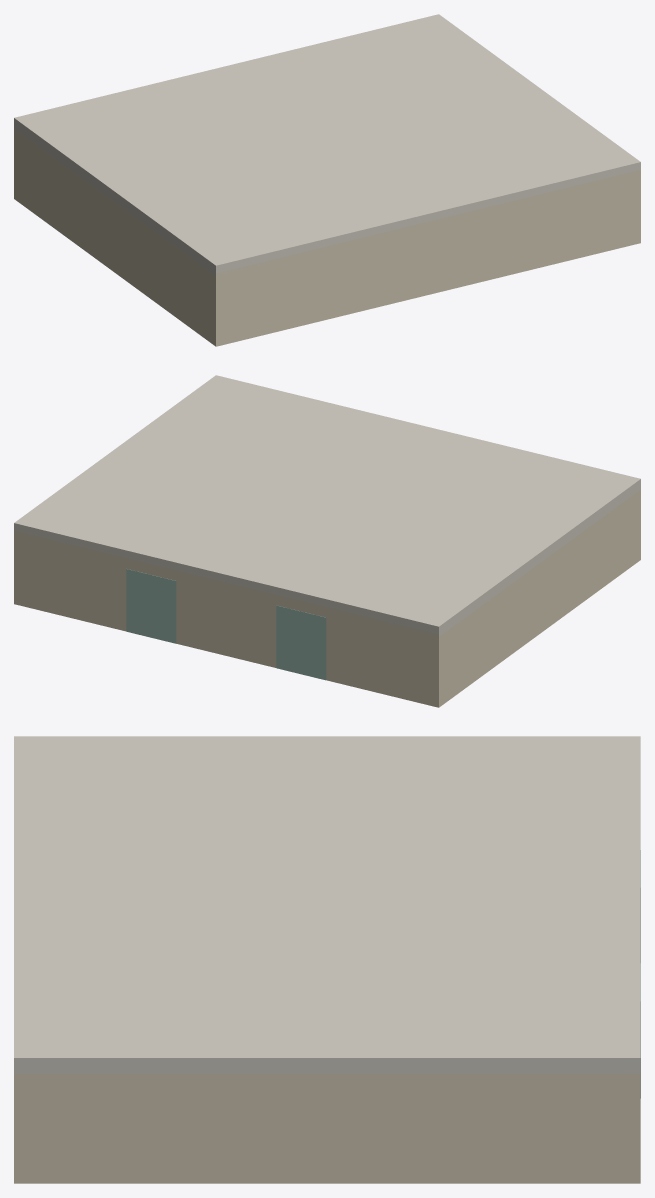
File: cama_saia.glb
The picture shows the model from 3 angles, top to bottom: view 1: azimuth 30°, elevation 25°; view 2: azimuth 150°, elevation 25°; view 3: azimuth 270°, elevation 25°; orthographic projection. The views are drawn at different scales.
Visible parts, largest first — view 1: CAMA_SAIA_v01; view 2: CAMA_SAIA_v01; view 3: CAMA_SAIA_v01.
Boxes of the visible parts, bbox=[...] form: CAMA_SAIA_v01: bbox=[14, 14, 640, 346]; CAMA_SAIA_v01: bbox=[14, 375, 640, 707]; CAMA_SAIA_v01: bbox=[14, 736, 640, 1183].
Size of the model in its own units: 1.7 by 0.31 by 1.4.
